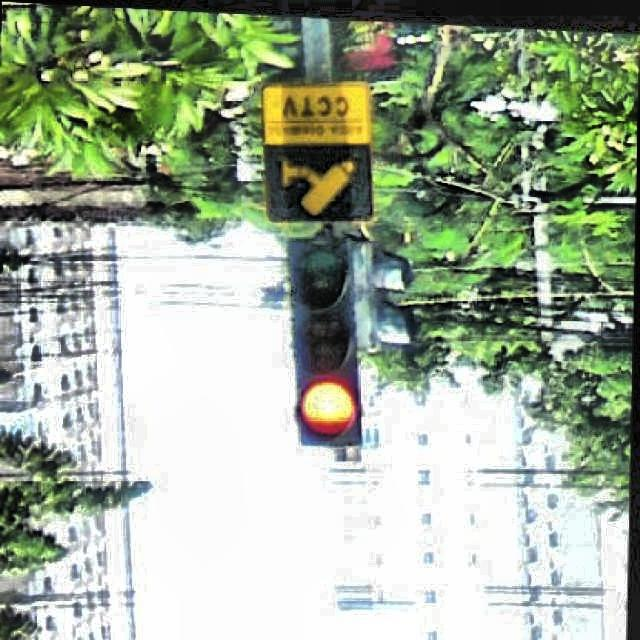red: (286, 240, 366, 452)
